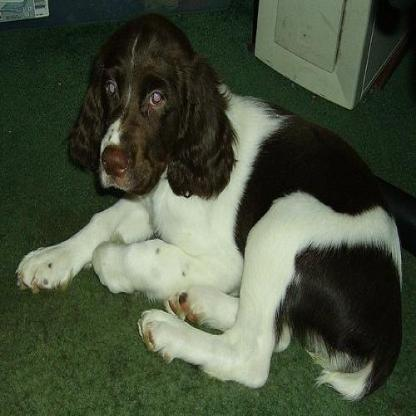English_springer: (13, 7, 404, 402)
